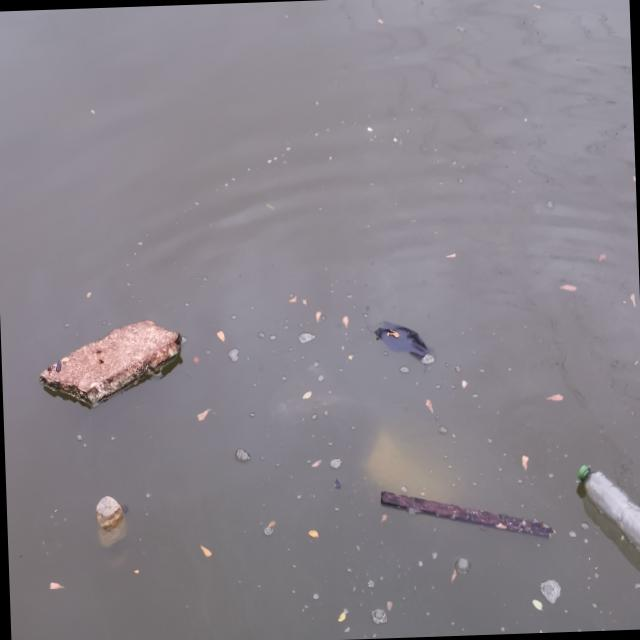foam: (37, 310, 182, 408)
plastic bottle: (577, 457, 640, 566)
unknow: (377, 474, 558, 552), (364, 306, 434, 374), (89, 494, 130, 569)
